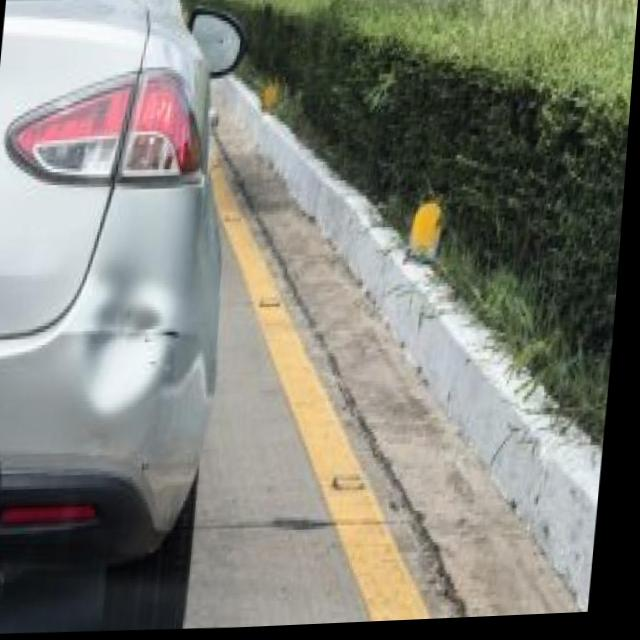Dent: (73, 264, 190, 424)
